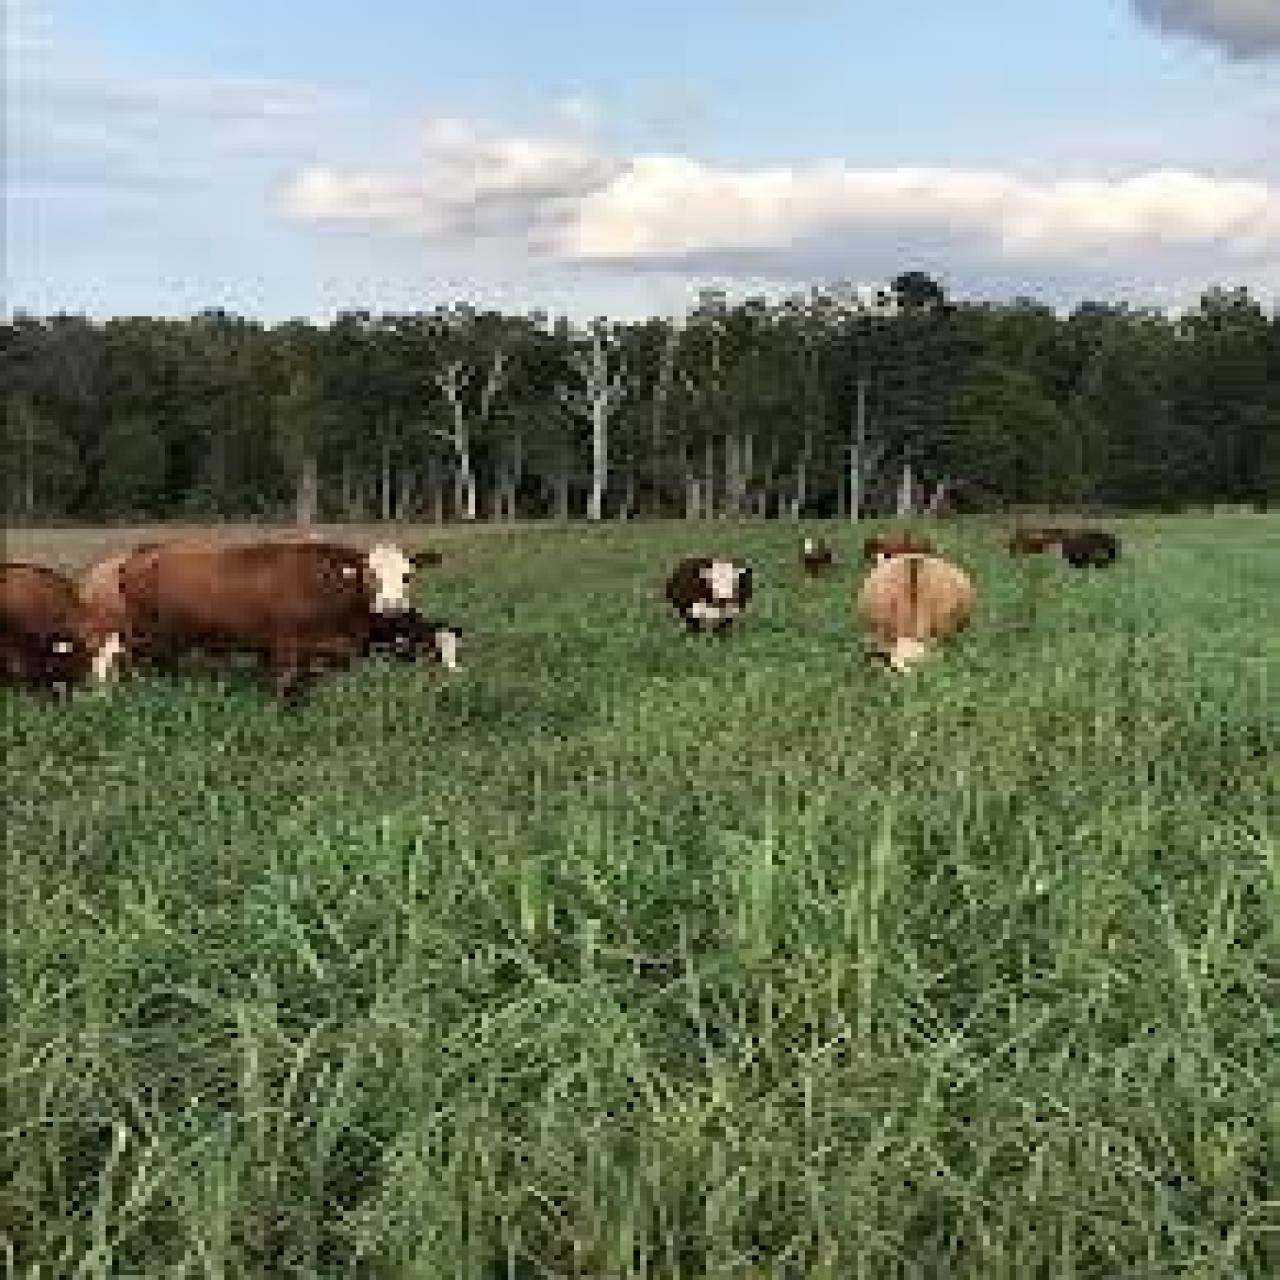cow: (86, 539, 429, 697), (0, 568, 138, 692), (855, 559, 980, 673), (666, 558, 758, 638), (366, 615, 471, 680), (1000, 522, 1105, 560), (862, 522, 947, 560), (1062, 533, 1129, 568), (789, 536, 842, 576)
